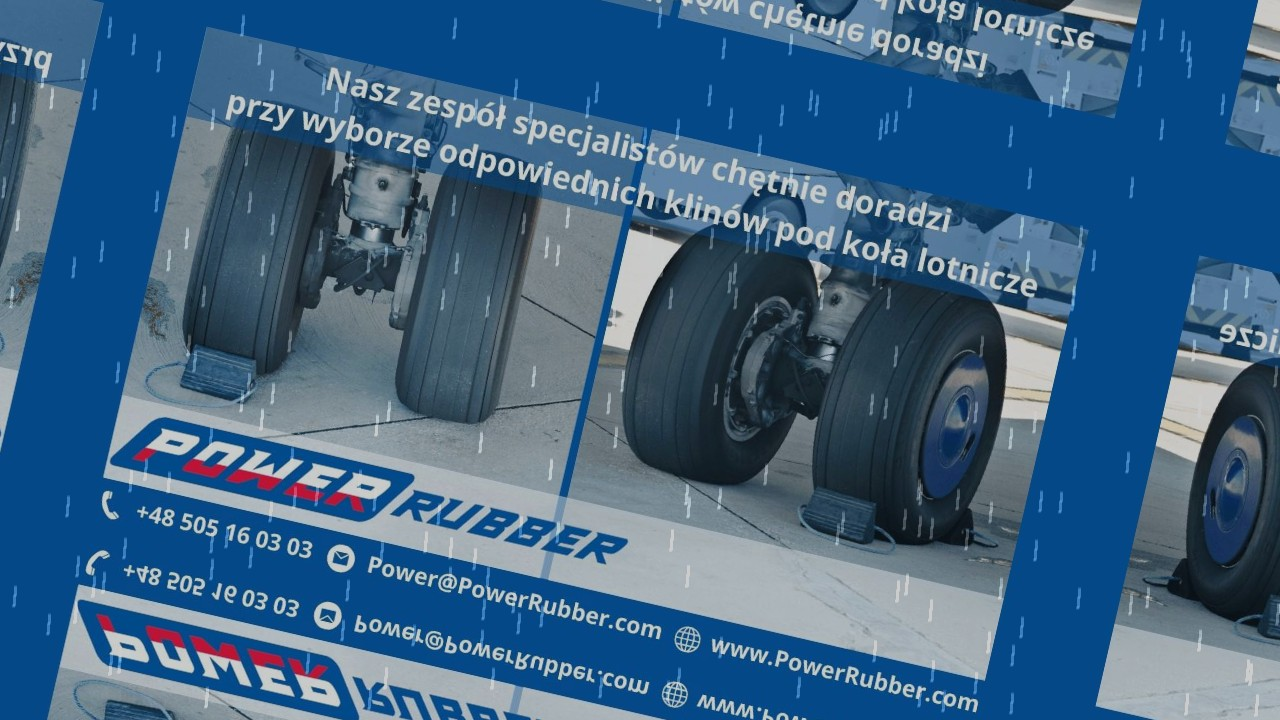chock: (175, 338, 265, 411), (797, 482, 885, 549), (93, 692, 183, 720), (1159, 554, 1208, 604), (938, 502, 986, 553)
wheel: (794, 265, 1027, 559), (604, 215, 832, 499), (168, 91, 348, 383), (383, 143, 554, 431), (1165, 350, 1280, 644), (0, 23, 55, 315), (734, 180, 817, 251), (785, 0, 868, 29)
